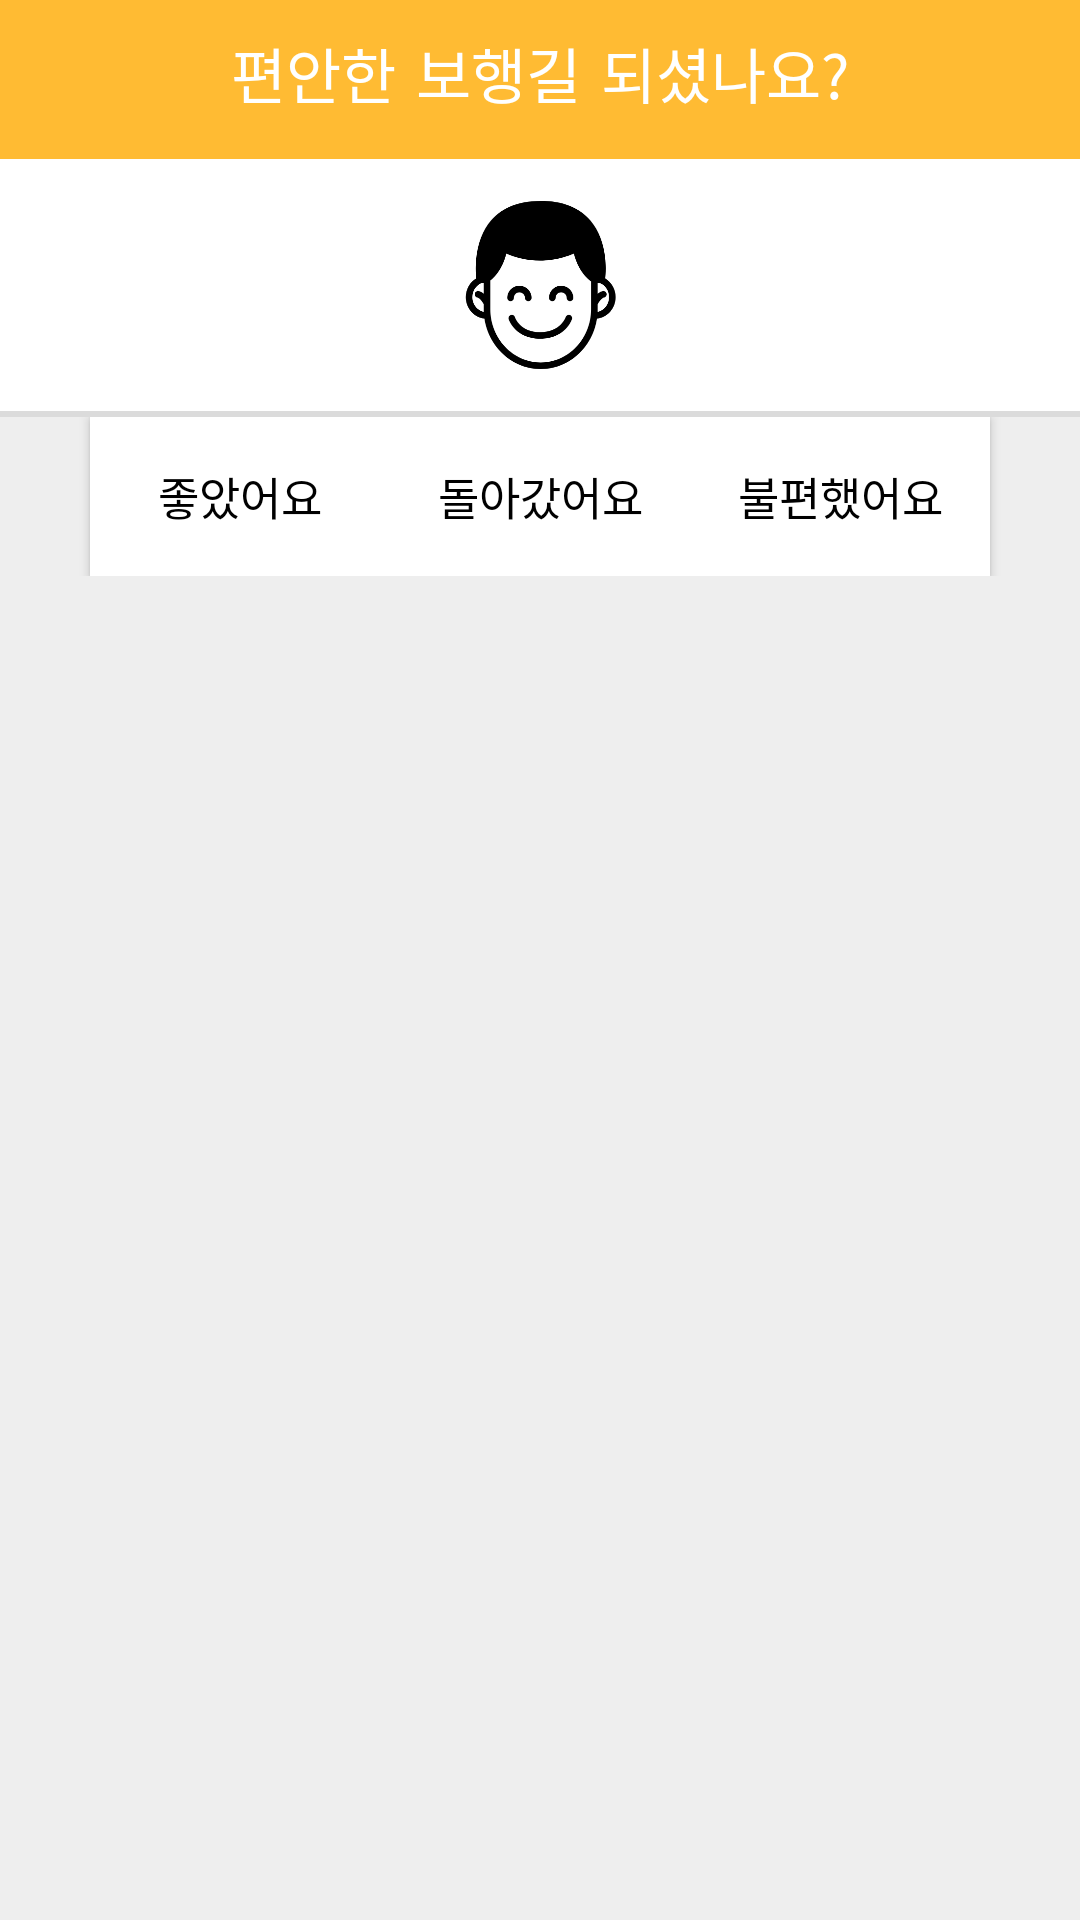

Locate icon controls on the screen. Image size 1080w x 1920h, boxes as (x1,y1,x2,y2).
comfort: (465,201,616,369)
